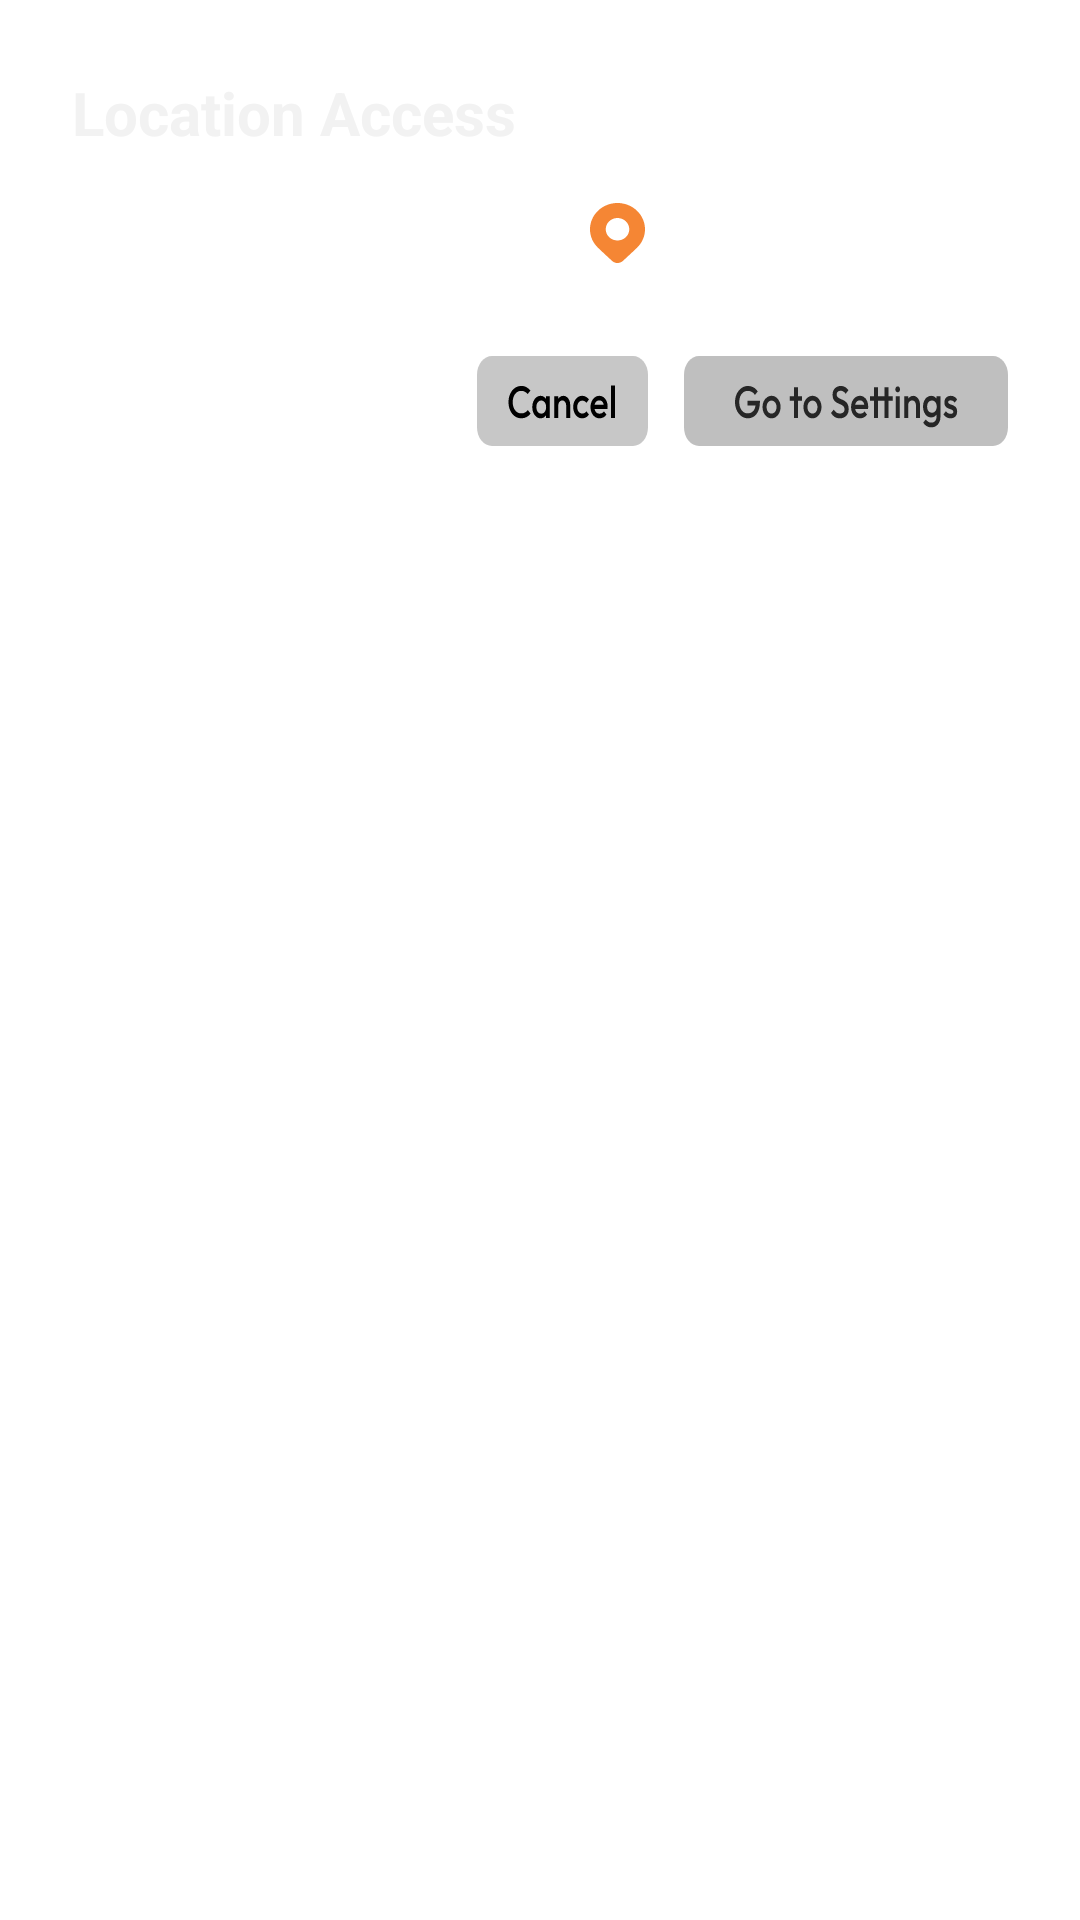

Locate icon controls on the screen. Image size 1080×1920, boxes as region(x1, y1, x2, y2).
Location Arrow Icon: region(590, 203, 645, 263)
